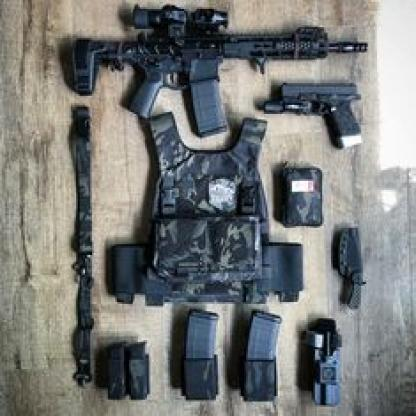Gun: (68, 2, 370, 138)
Knife: (337, 225, 368, 311)
Pistol: (264, 79, 364, 152)
